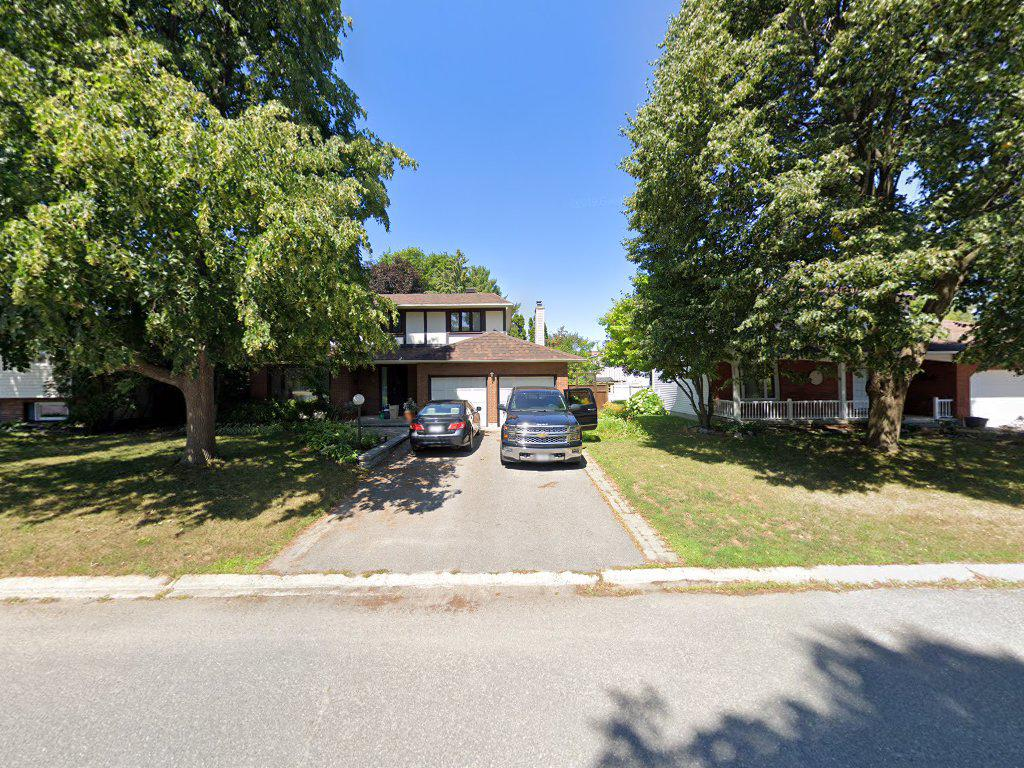trunk: (172, 349, 225, 470), (864, 346, 908, 488)
